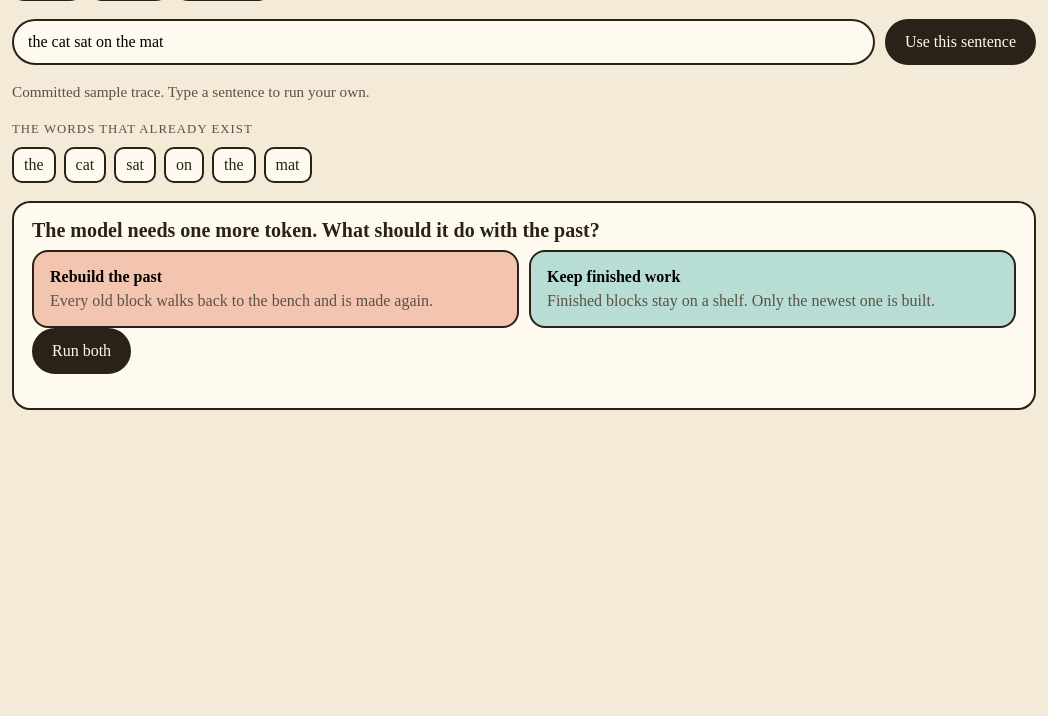
Test: experiment 01 playground › rebuild walk accumulates work from the trace
Click the button "Every old block walks back" at (276, 289), box [32,250,519,328]
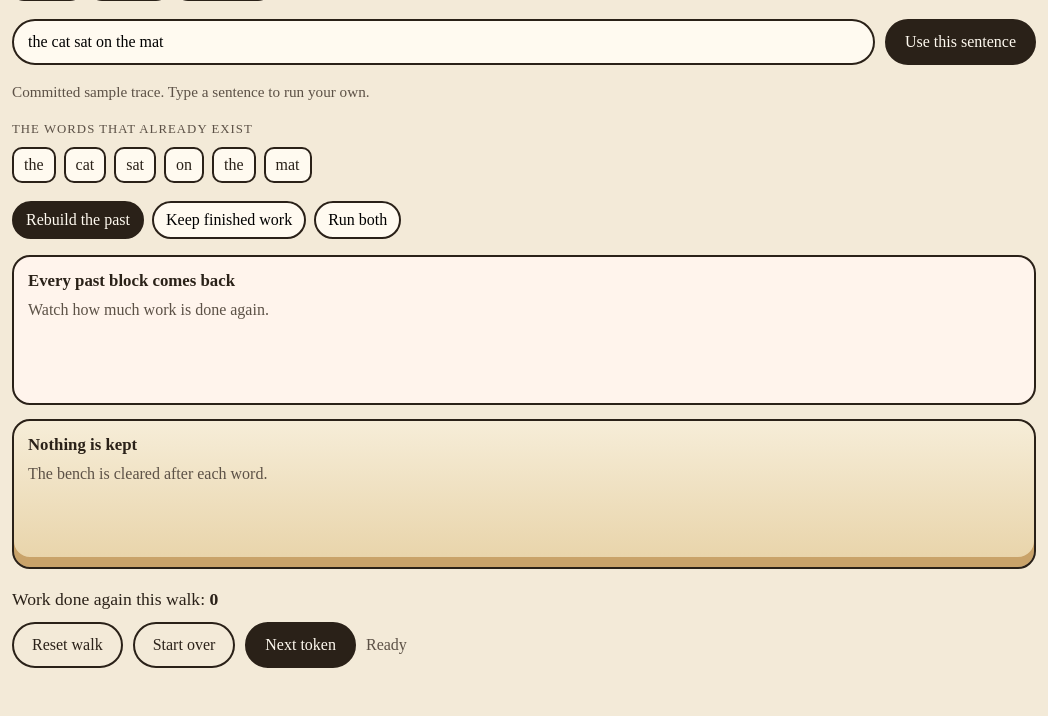
Click the button "Next token" at (301, 645), box [245,622,356,668]
(page scrolled)
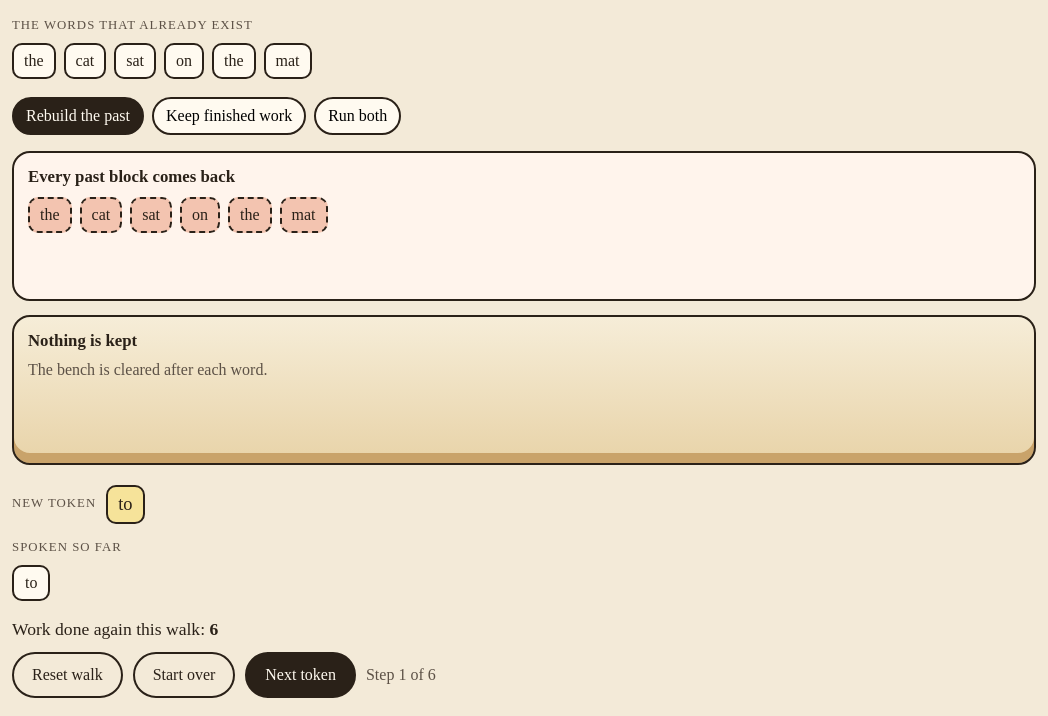
Expected: the text "Work done again this walk: 6" is shown, [12,619,218,639]
Click the button "Next token" at (301, 675), box [245,652,356,698]
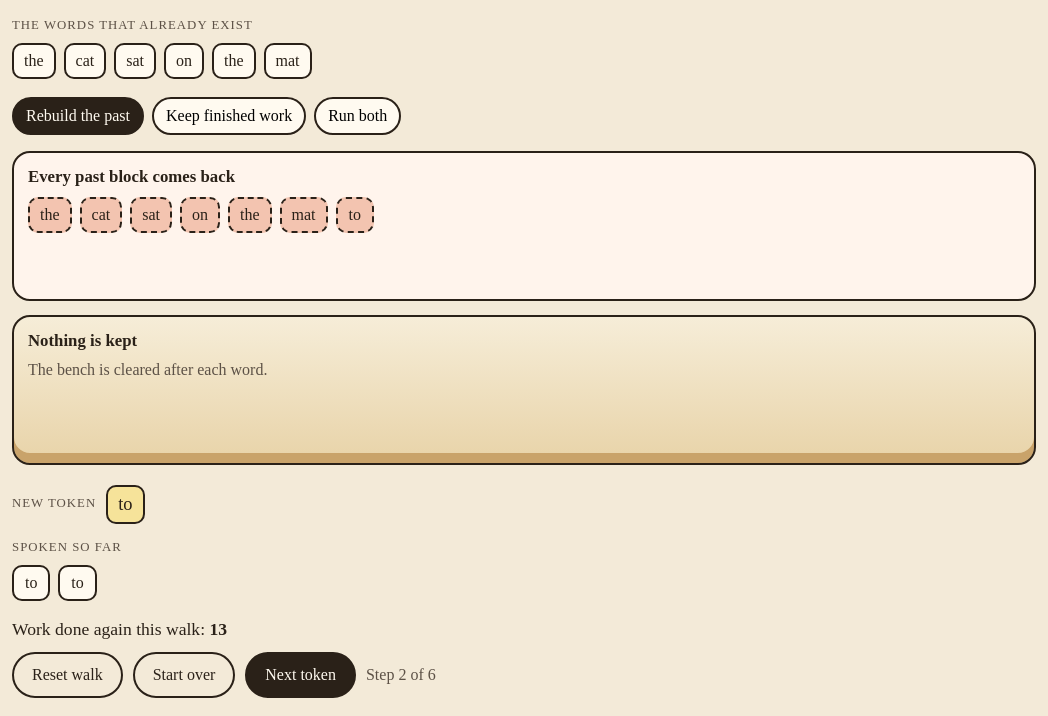
Expected: the text "Work done again this walk: 13" is shown, [12,619,227,639]
